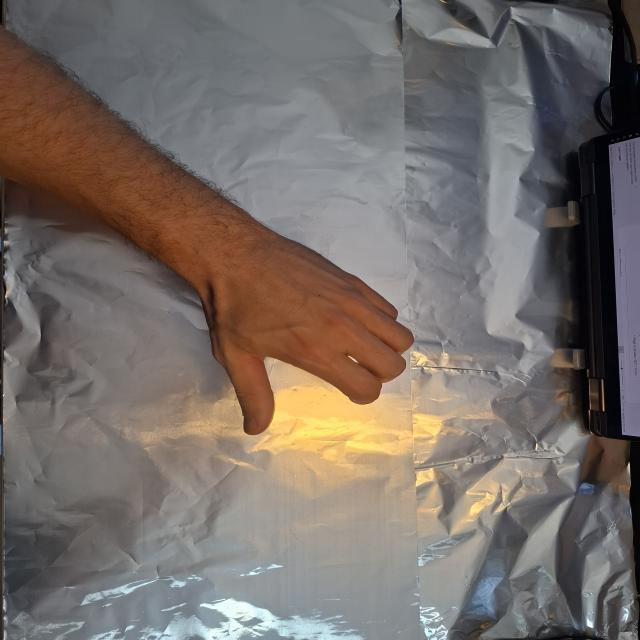glove_off: (192, 236, 415, 437)
